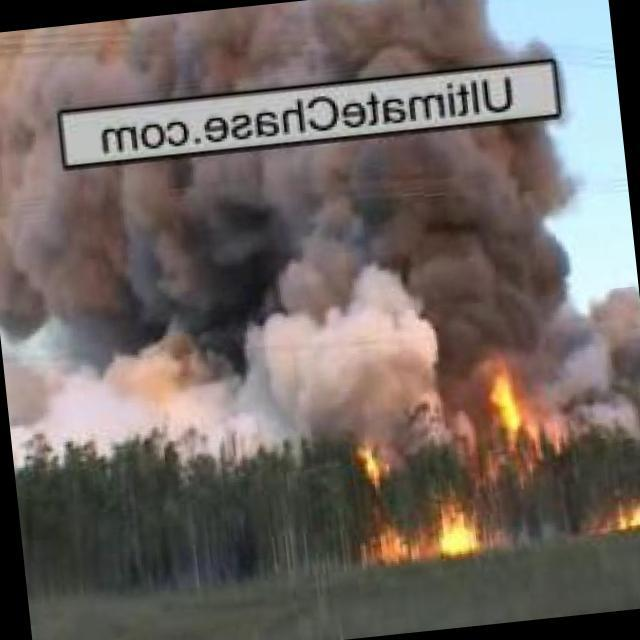Fire: (353, 430, 399, 564), (433, 485, 492, 562), (480, 360, 523, 451), (609, 502, 640, 528)
